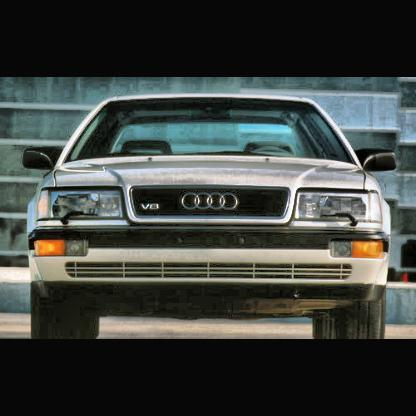Audi V8 Sedan 1994: (26, 98, 393, 339)
